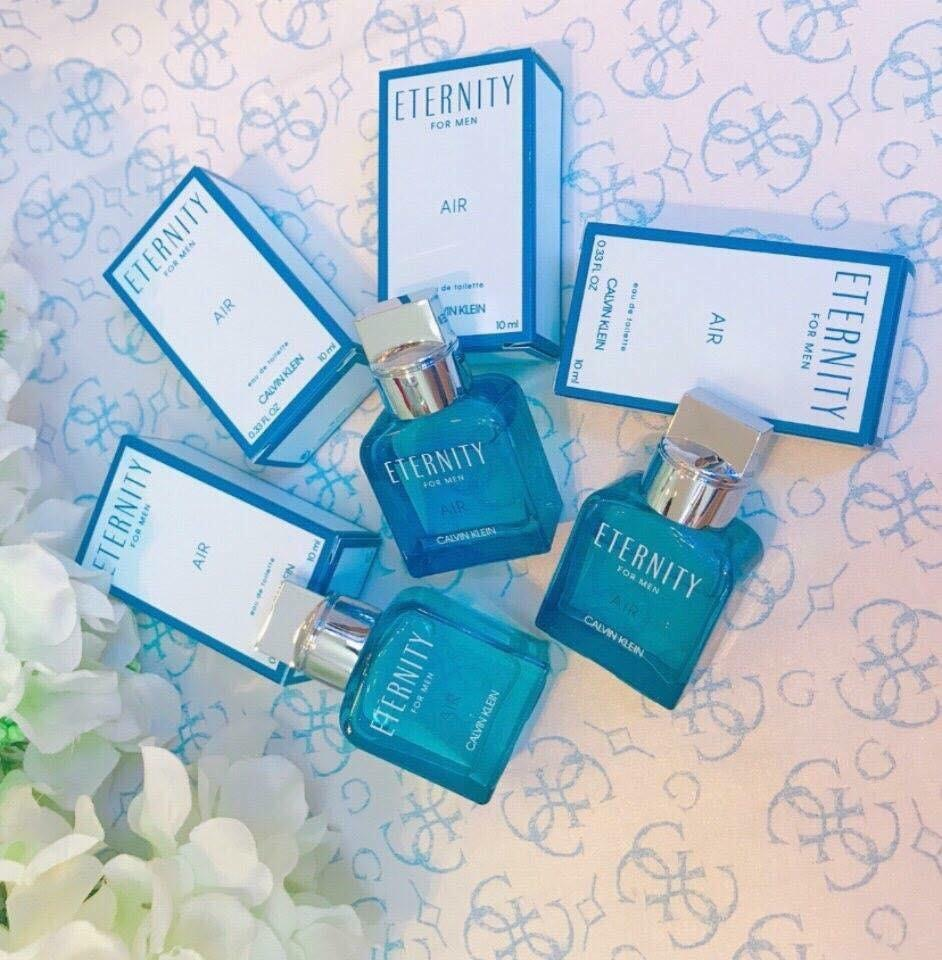Calvin Klein: (461, 673, 504, 767), (576, 612, 655, 662), (253, 344, 311, 409), (593, 270, 624, 369), (421, 522, 518, 551)
